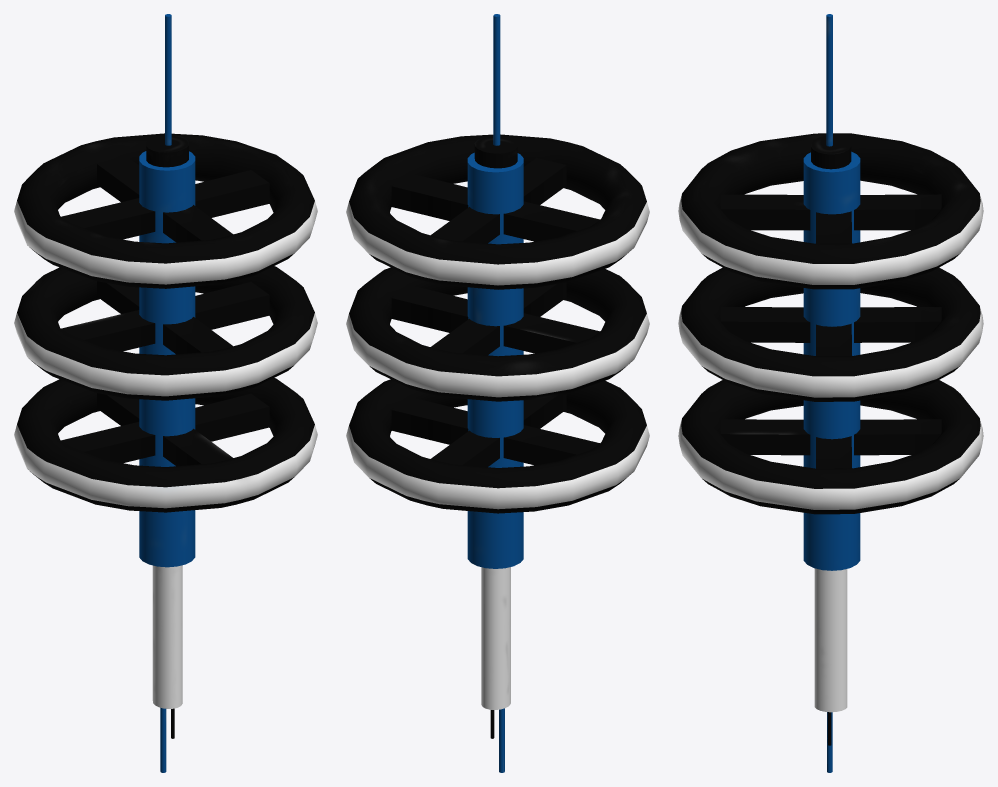
File: ssp2.FBX
3 renders of one model, left to right at view 1: azimuth 30°, elevation 25°; view 2: azimuth 150°, elevation 25°; view 3: azimuth 270°, elevation 25°, orthographic.
Parts seen in each view (by area): view 1: SPESS Station; view 2: SPESS Station; view 3: SPESS Station.
Part boxes in pixels (bbox=[...]): SPESS Station: bbox=[14, 14, 317, 772]; SPESS Station: bbox=[346, 14, 649, 772]; SPESS Station: bbox=[678, 14, 983, 772].
Bounding box in the file's own units: 39.39 × 108 × 39.39.
